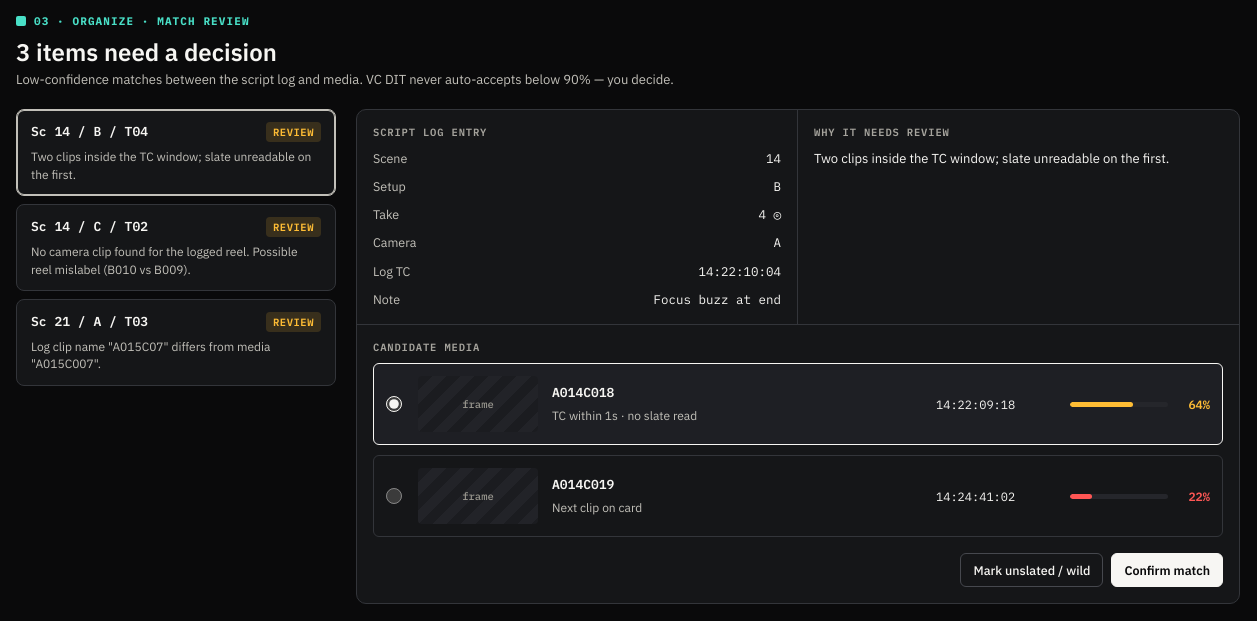
Scenario: Match Review › counts open items, confirms and advances to the next one
Check: the heading "3 items need a decision" is shown, box [16,36,277,68]
Click the button "Confirm match".
click(1167, 570)  # box [1111,553,1223,587]
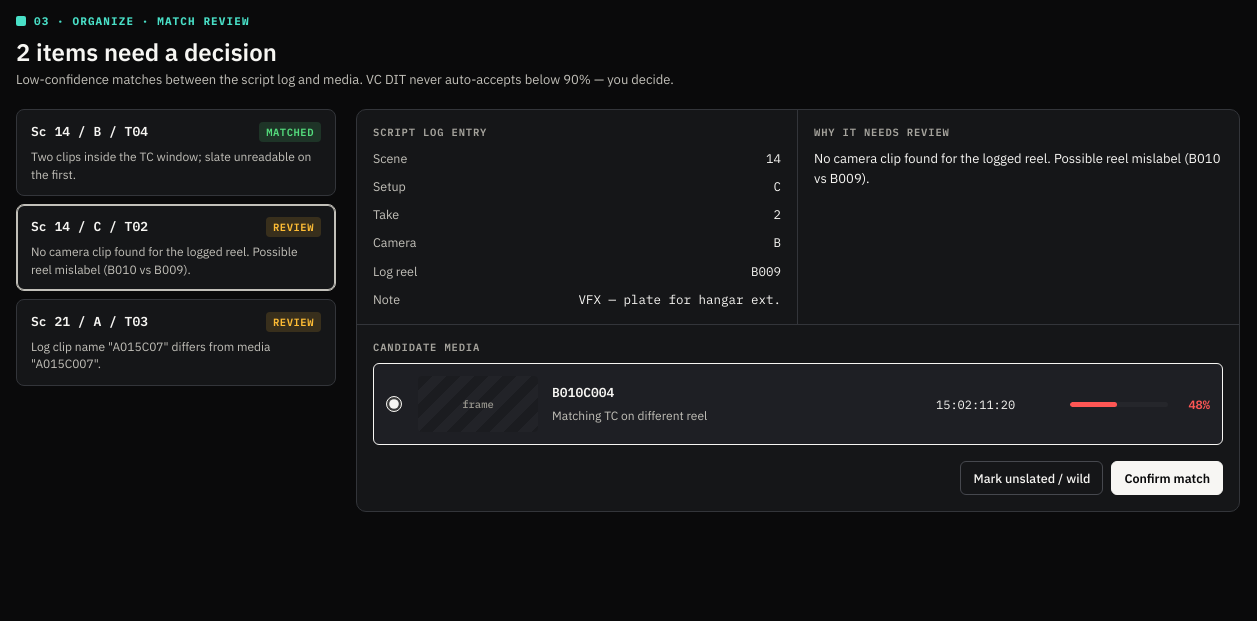
Check: the heading "2 items need a decision" is shown, box [16,36,277,68]
Check: the text "Possible reel mislabel" is shown 2 times, box [31,243,321,278]; [814,149,1223,189]
